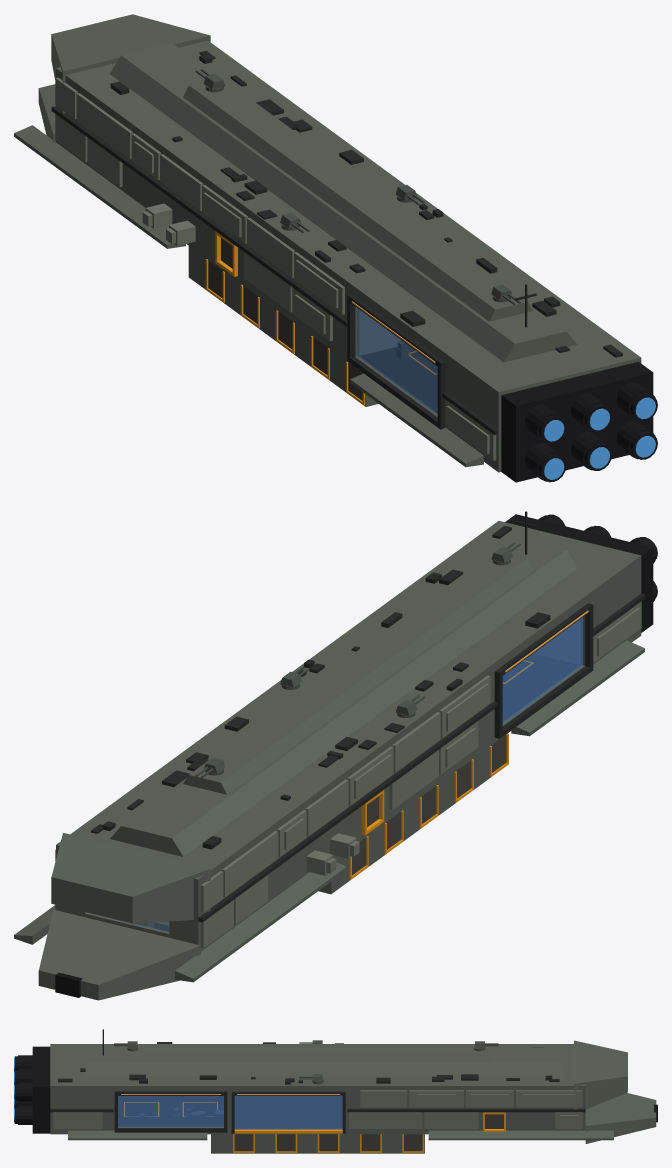
The model's file is ship_MEDIUM.obj.
3 views of the same model, one above another, from view 1: azimuth 30°, elevation 25°; view 2: azimuth 150°, elevation 25°; view 3: azimuth 270°, elevation 25° (orthographic). The views are drawn at different scales.
Parts seen in each view (by area): view 1: MEDIUM_Hull-col, MEDIUM_Armor, MEDIUM_Engines, MEDIUM_Trim, MEDIUM_HangarShield_Port, MEDIUM_Details, MEDIUM_Decks-col, MEDIUM_EngineGlow, MEDIUM_Hazard, MEDIUM_Interior-col; view 2: MEDIUM_Hull-col, MEDIUM_Armor, MEDIUM_Trim, MEDIUM_HangarShield_Port, MEDIUM_Details, MEDIUM_Engines, MEDIUM_Decks-col, MEDIUM_Hazard, MEDIUM_Interior-col; view 3: MEDIUM_Hull-col, MEDIUM_Armor, MEDIUM_CargoBayShield, MEDIUM_CargoBayDoor-col, MEDIUM_Trim, MEDIUM_HangarShield_Starboard, MEDIUM_Engines, MEDIUM_Decks-col, MEDIUM_Hazard, MEDIUM_Details, MEDIUM_Cover-col, MEDIUM_PodTube_Starboard_1_Hatch-col (+5 smaller).
Boxes of the visible parts, bbox=[...] form: MEDIUM_Hull-col: bbox=[14, 14, 641, 472]; MEDIUM_Armor: bbox=[55, 77, 496, 460]; MEDIUM_Engines: bbox=[501, 361, 657, 482]; MEDIUM_Trim: bbox=[51, 106, 498, 435]; MEDIUM_HangarShield_Port: bbox=[357, 308, 437, 414]; MEDIUM_Details: bbox=[110, 50, 622, 357]; MEDIUM_Decks-col: bbox=[360, 345, 437, 412]; MEDIUM_EngineGlow: bbox=[544, 397, 655, 479]; MEDIUM_Hazard: bbox=[205, 231, 437, 405]; MEDIUM_Interior-col: bbox=[359, 309, 401, 355]; MEDIUM_Hull-col: bbox=[14, 521, 644, 1000]; MEDIUM_Armor: bbox=[55, 601, 641, 948]; MEDIUM_Trim: bbox=[198, 593, 645, 922]; MEDIUM_HangarShield_Port: bbox=[502, 617, 582, 723]; MEDIUM_Details: bbox=[91, 511, 550, 849]; MEDIUM_Engines: bbox=[55, 514, 657, 997]; MEDIUM_Decks-col: bbox=[151, 653, 580, 927]; MEDIUM_Hazard: bbox=[349, 660, 533, 879]; MEDIUM_Interior-col: bbox=[533, 619, 580, 664]; MEDIUM_Hull-col: bbox=[50, 1040, 656, 1153]; MEDIUM_Armor: bbox=[53, 1090, 582, 1128]; MEDIUM_CargoBayShield: bbox=[234, 1095, 342, 1129]; MEDIUM_CargoBayDoor-col: bbox=[234, 1095, 342, 1128]; MEDIUM_Trim: bbox=[50, 1091, 585, 1133]; MEDIUM_HangarShield_Starboard: bbox=[118, 1096, 223, 1127]; MEDIUM_Engines: bbox=[14, 1046, 657, 1133]; MEDIUM_Decks-col: bbox=[118, 1096, 223, 1126]; MEDIUM_Hazard: bbox=[124, 1102, 505, 1152]; MEDIUM_Details: bbox=[58, 1029, 559, 1084]; MEDIUM_Cover-col: bbox=[139, 1096, 223, 1122]; MEDIUM_PodTube_Starboard_1_Hatch-col: bbox=[234, 1134, 253, 1151].
Size of the model in its own units: 21.8 by 19.3 by 110.
